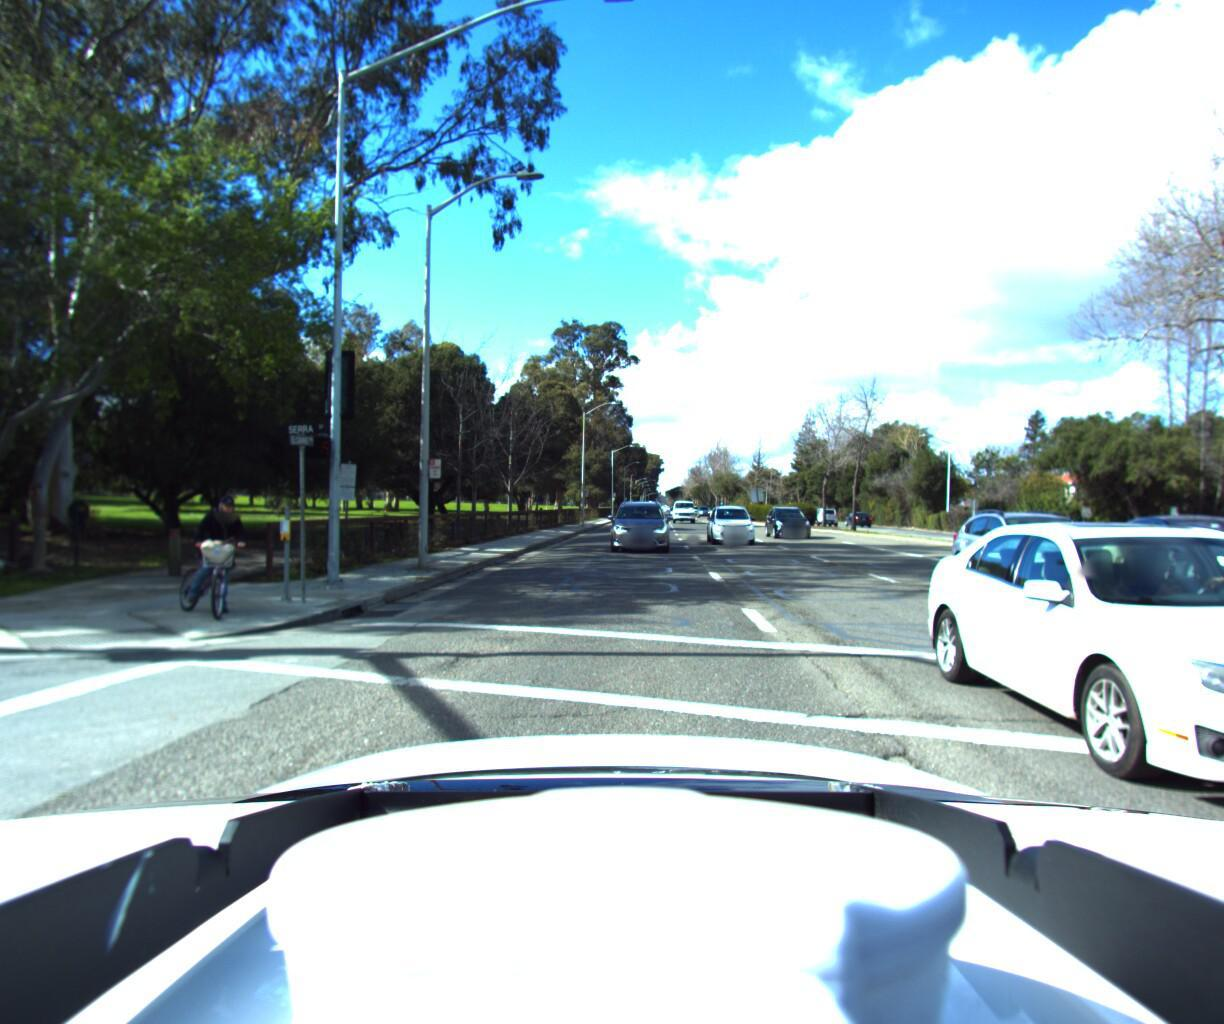bicycle: (168, 492, 261, 624)
car: (972, 513, 1224, 1024), (977, 507, 1219, 614), (1081, 507, 1224, 607), (608, 498, 670, 554), (708, 504, 766, 547), (767, 503, 819, 540), (808, 507, 838, 526), (672, 502, 698, 522)
